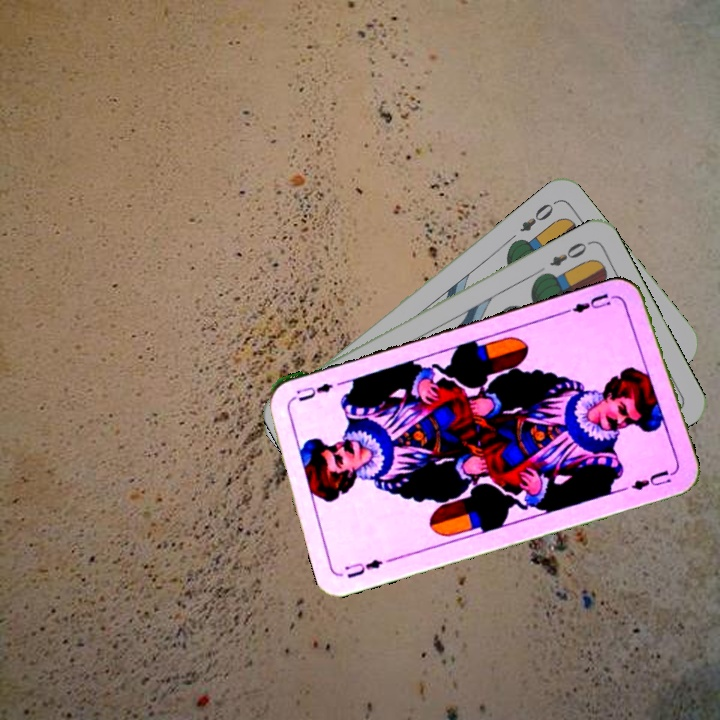EO: (515, 197, 559, 235), (545, 237, 594, 269)
EU: (564, 289, 625, 316), (340, 555, 385, 581)
